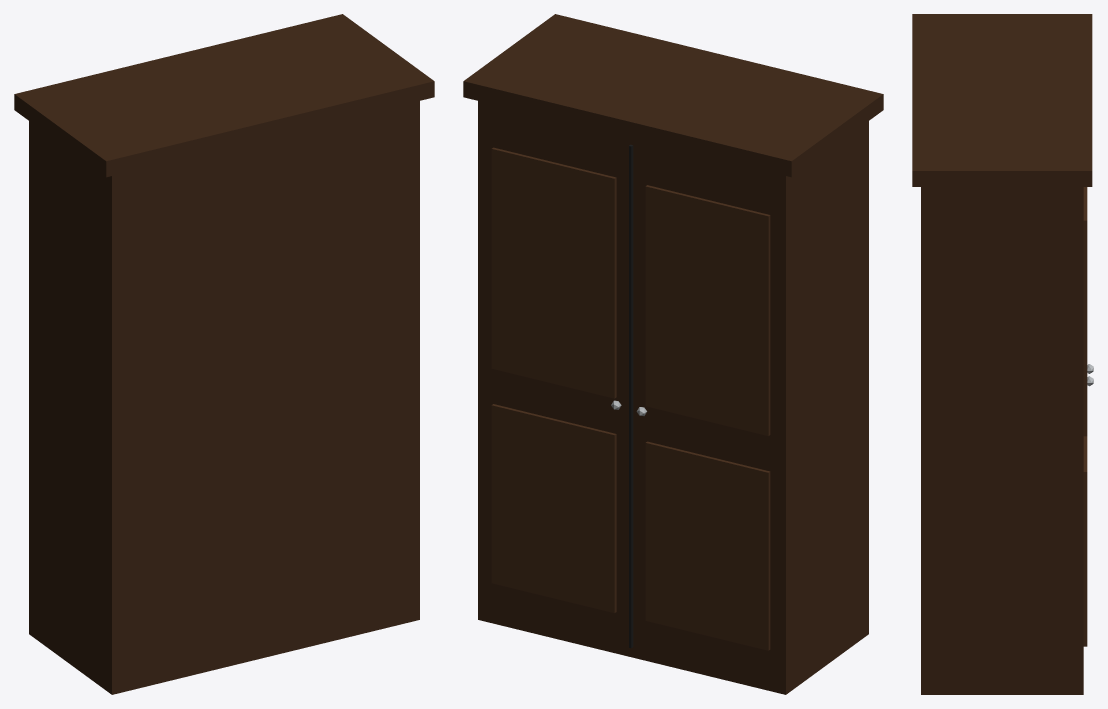
File: wardrobe.glb
3 renders of one model, left to right at view 1: azimuth 30°, elevation 25°; view 2: azimuth 150°, elevation 25°; view 3: azimuth 270°, elevation 25°, orthographic. The views are drawn at different scales.
Parts seen in each view (by area): view 1: wardrobe; view 2: wardrobe; view 3: wardrobe.
Boxes of the visible parts, x1,y1,x2,y2 form: wardrobe: (14,14,434,694); wardrobe: (463,14,883,694); wardrobe: (912,14,1093,694).
Size of the model in its own units: 1.28 by 2.01 by 0.6253.
